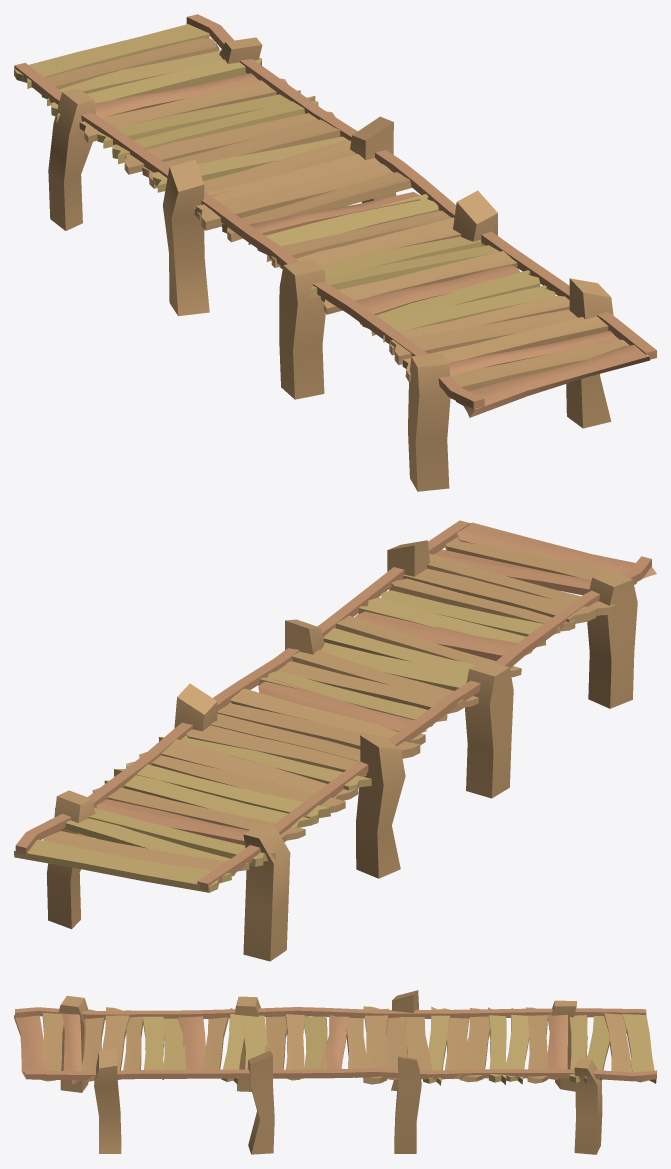
The model's file is Bridge.fbx.
3 renders of one model, top to bottom at view 1: azimuth 30°, elevation 25°; view 2: azimuth 150°, elevation 25°; view 3: azimuth 270°, elevation 25°, orthographic. The views are drawn at different scales.
Visible parts, largest first — view 1: Boat_Dock; view 2: Boat_Dock; view 3: Boat_Dock.
Boxes of the visible parts, x1,y1,x2,y2 form: Boat_Dock: [14, 14, 656, 491]; Boat_Dock: [14, 520, 656, 961]; Boat_Dock: [14, 990, 656, 1154].
Size of the model in its own units: 443 by 263 by 1590.
